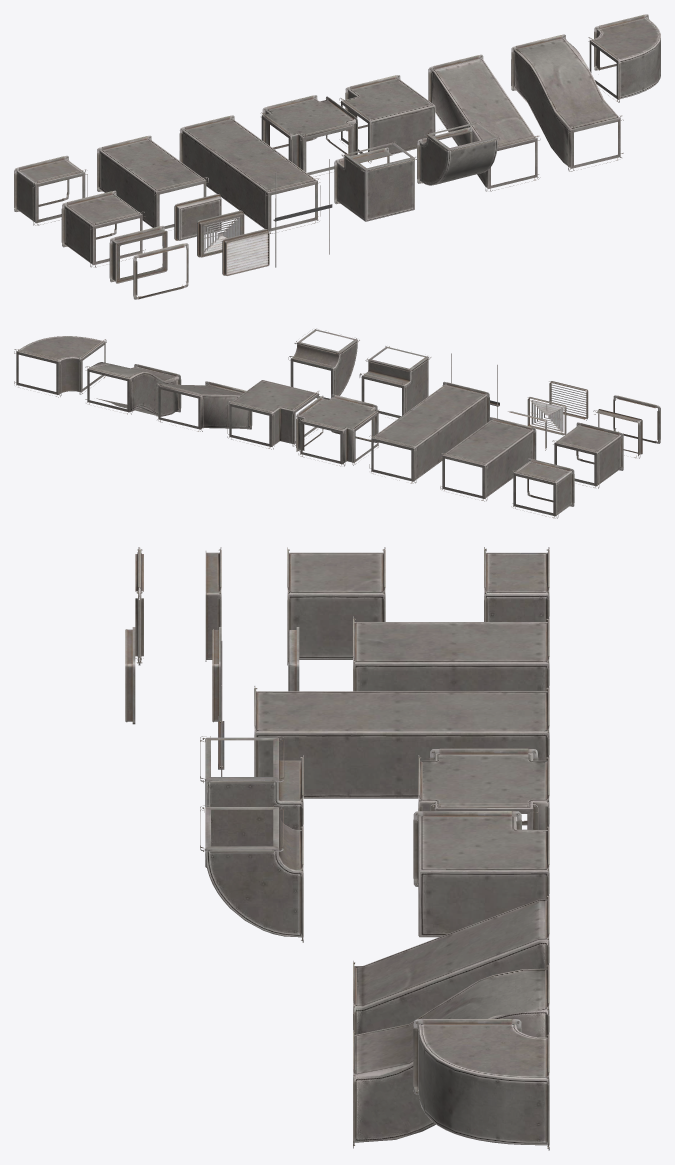
File: modular_airduct_rectangular_01.glb
3 renders of one model, top to bottom at view 1: azimuth 30°, elevation 25°; view 2: azimuth 150°, elevation 25°; view 3: azimuth 270°, elevation 25°, orthographic. The views are drawn at different scales.
Bounding box in the file's own units: 7.66 × 1.26 × 2.59.
2 materials, 2 textured.
